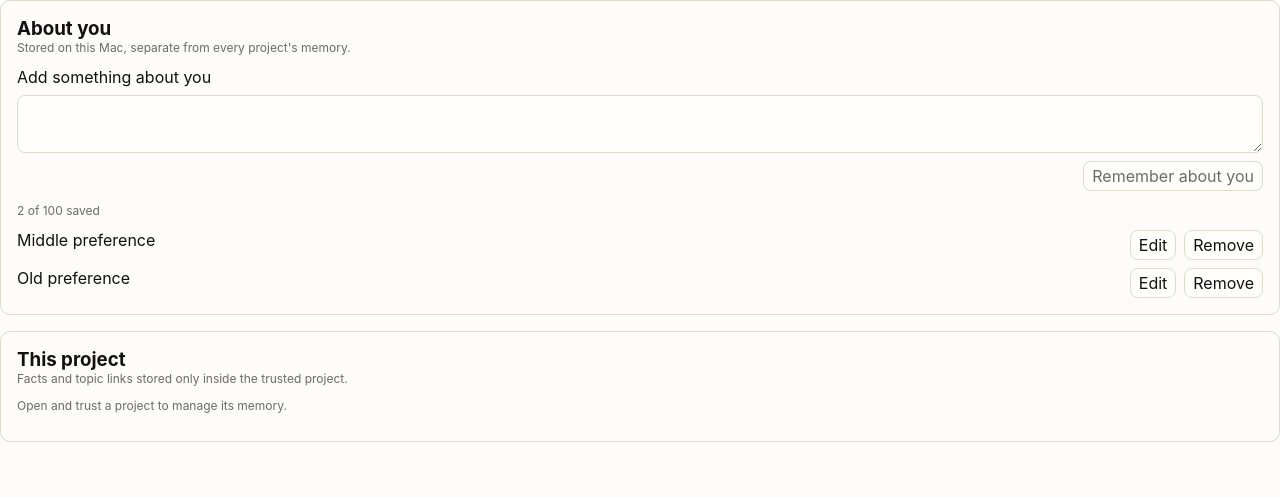
Test: LibrarySettingsPanel › keeps loaded and newly remembered user memory newest-first
Check: the text "Middle preference" is shown, box [17,230,155,250]
Type "New preference" into the text box labelled "Add something about you" at point(640, 124), box [17,95,1263,153]
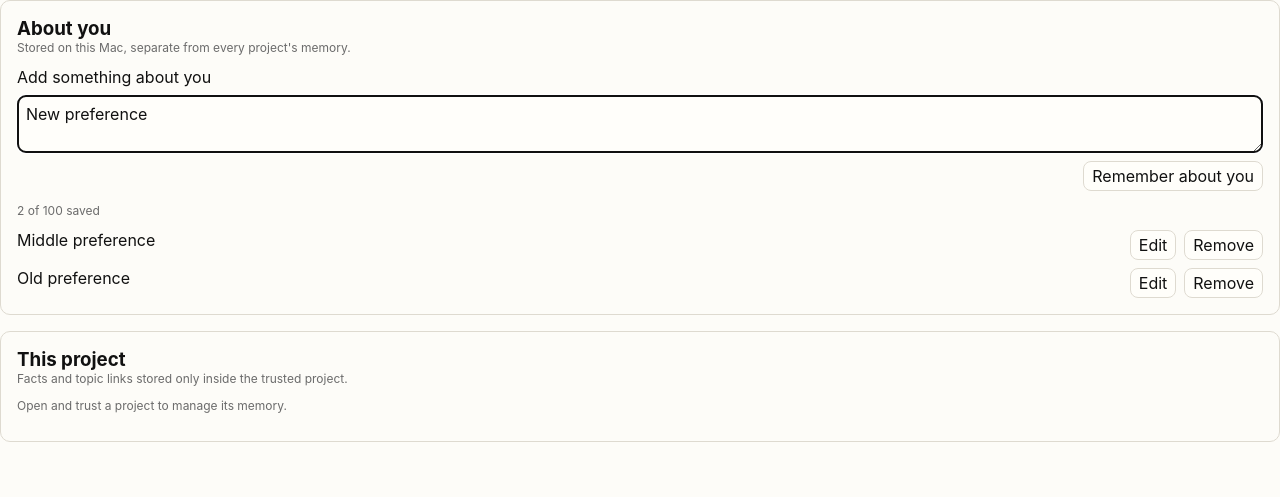
Click the button "Remember about you" at point(1173, 176), box [1083,161,1263,191]
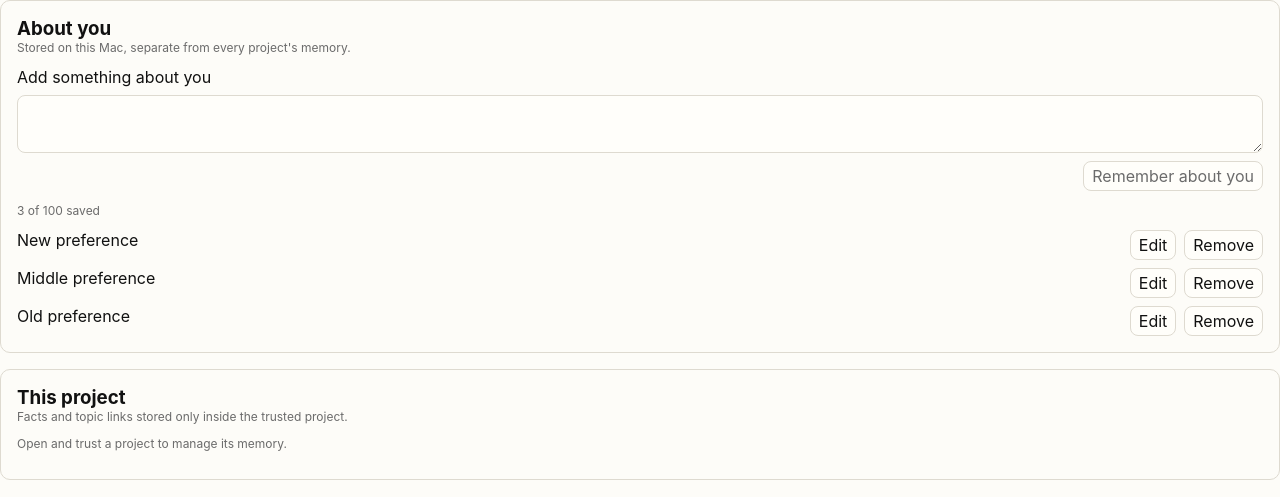
Check: the text "New preference" is shown, box [17,230,138,250]
